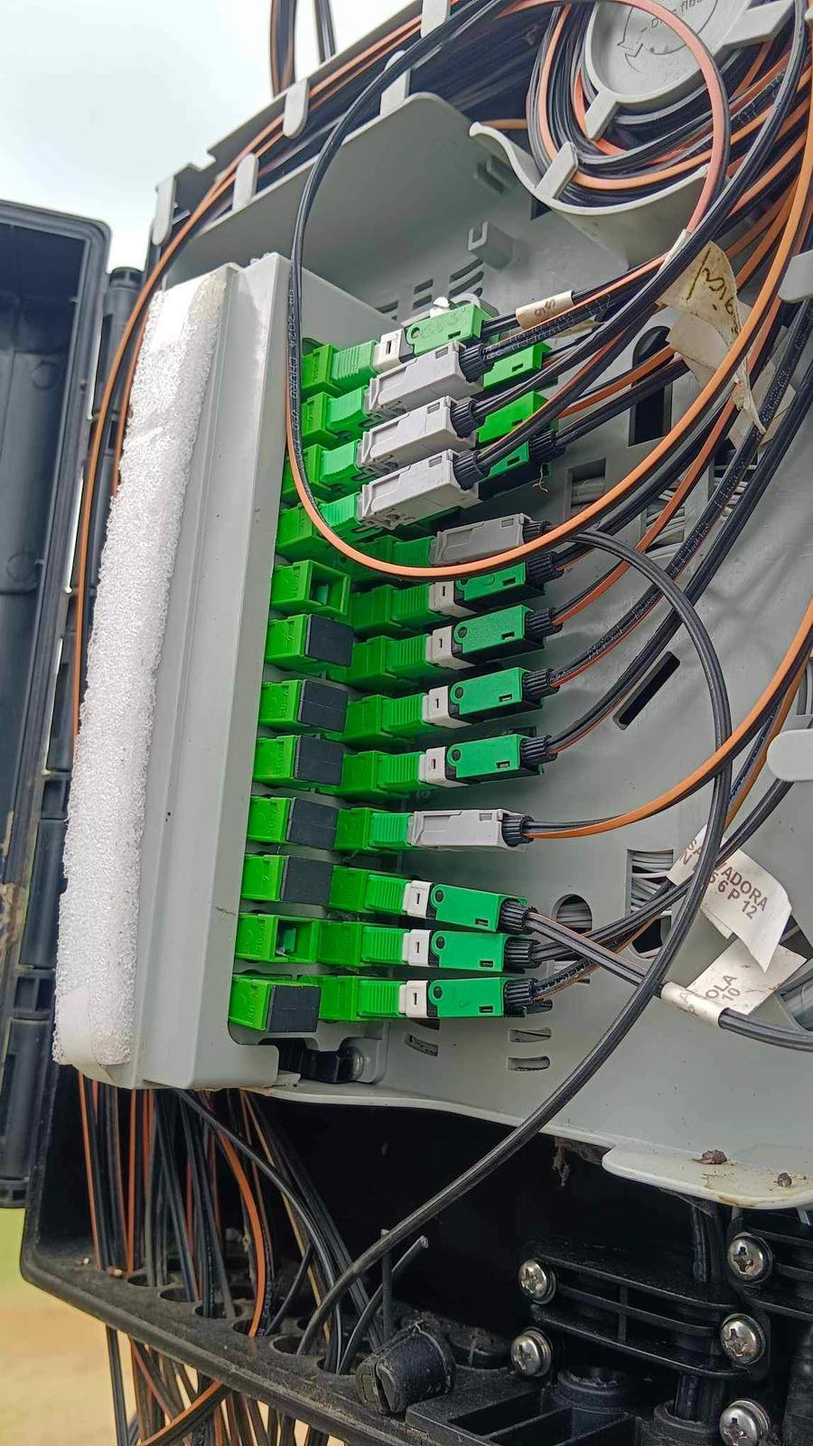no dust cap: (304, 559, 352, 615), (271, 912, 321, 965)
occupied: (403, 419, 571, 527), (318, 439, 493, 542), (377, 384, 566, 478), (374, 338, 573, 427), (323, 337, 495, 432), (319, 389, 488, 482), (330, 299, 503, 383), (382, 657, 562, 734), (364, 867, 548, 942), (389, 548, 569, 623), (386, 600, 571, 672), (378, 728, 573, 789), (360, 921, 550, 976), (390, 514, 561, 574), (366, 804, 547, 851), (359, 976, 544, 1019)
vacant: (281, 853, 339, 908), (295, 680, 352, 734), (284, 799, 342, 852), (265, 982, 324, 1034), (294, 736, 346, 786), (305, 615, 355, 667)
